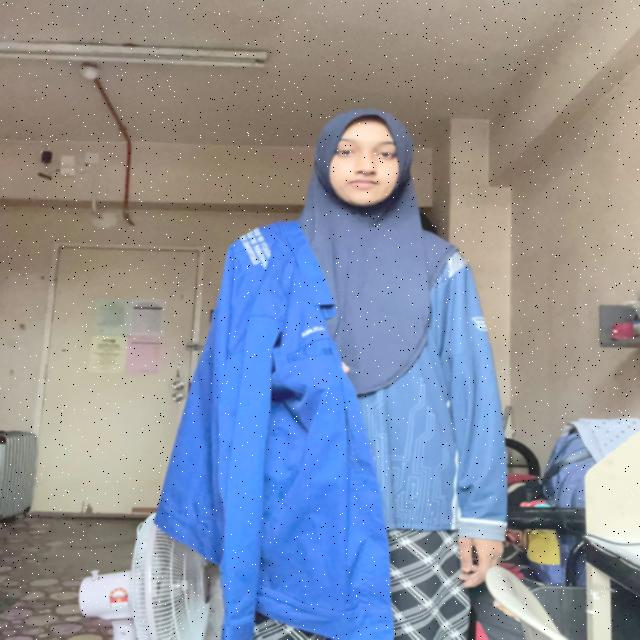person_without_labcoat: (155, 109, 506, 640)
